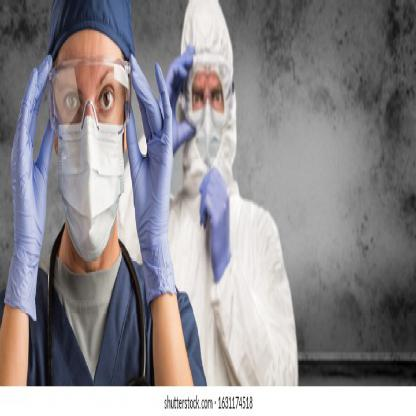with_gloves: (3, 52, 55, 325), (126, 58, 177, 302), (198, 169, 233, 284), (166, 48, 200, 154)
